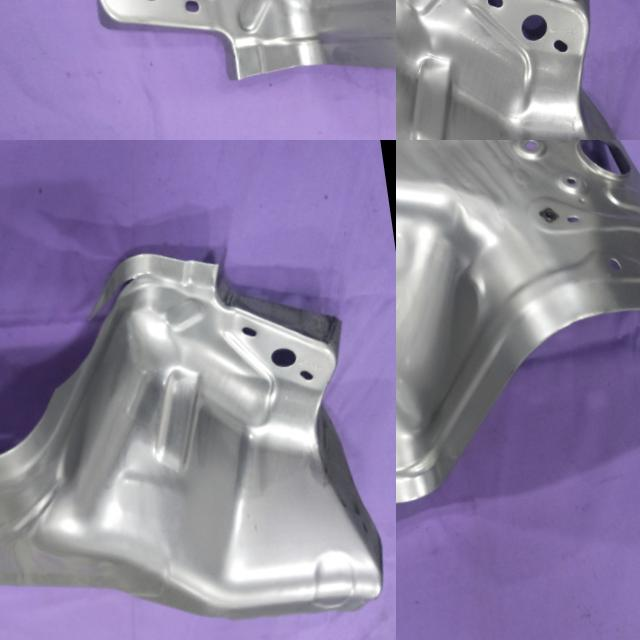Defect: (57, 266, 156, 392), (372, 0, 396, 91)
Healthy: (396, 140, 640, 554), (396, 0, 640, 140)
